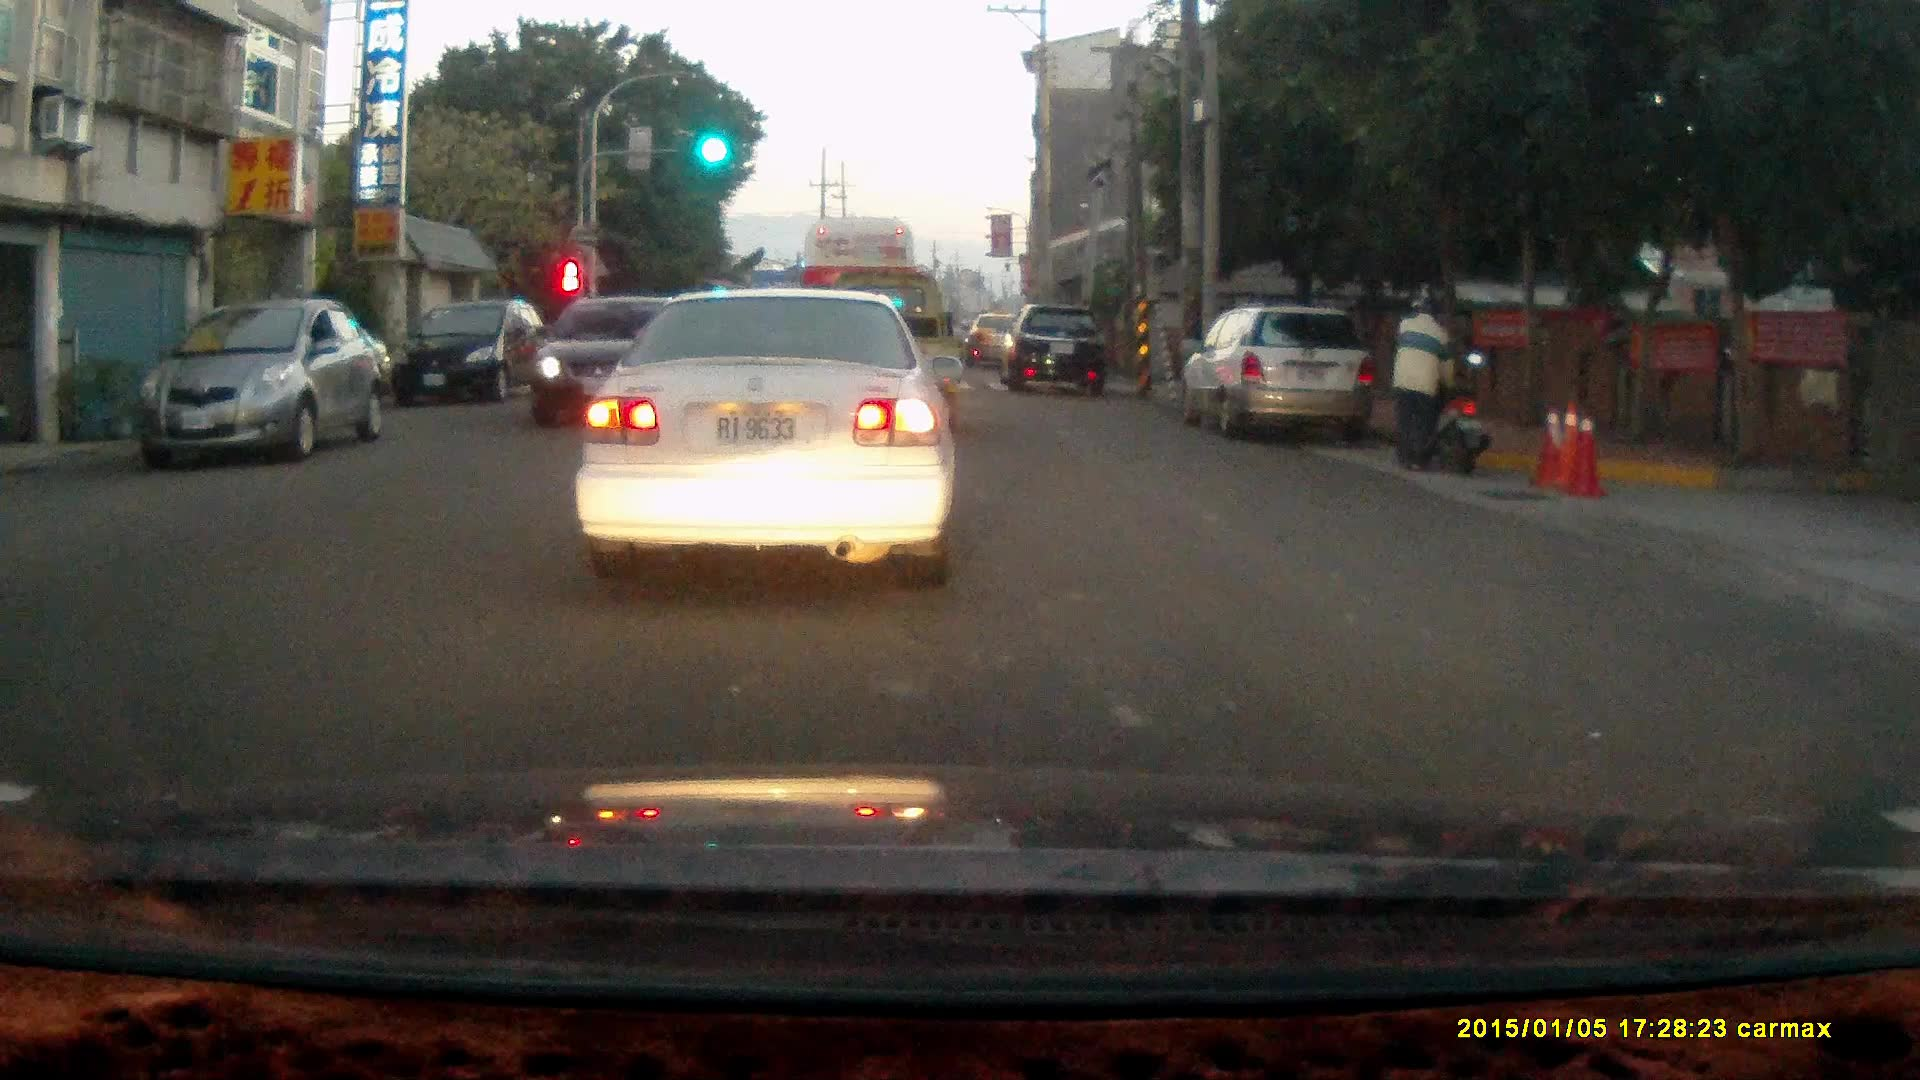pedestrian: (1387, 292, 1460, 477)
vehicle: (577, 273, 956, 571), (135, 298, 388, 465), (1187, 304, 1381, 442), (535, 297, 708, 430), (797, 212, 918, 379), (385, 299, 551, 409), (1007, 306, 1114, 396)
